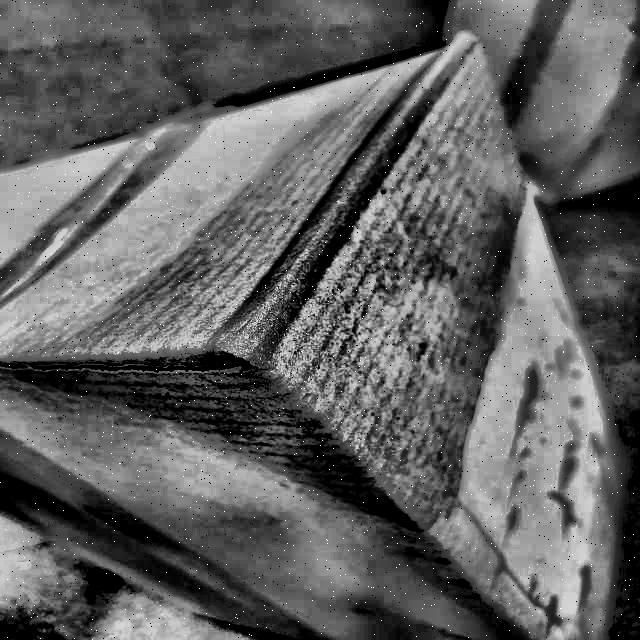box: (0, 26, 632, 639)
wet: (65, 43, 525, 501)
